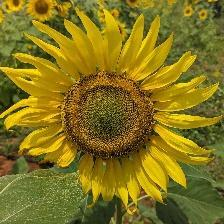sunflower: (1, 5, 224, 214), (25, 1, 58, 24), (9, 1, 25, 12), (2, 2, 14, 16), (199, 9, 209, 23), (184, 5, 194, 18), (125, 1, 141, 9)
